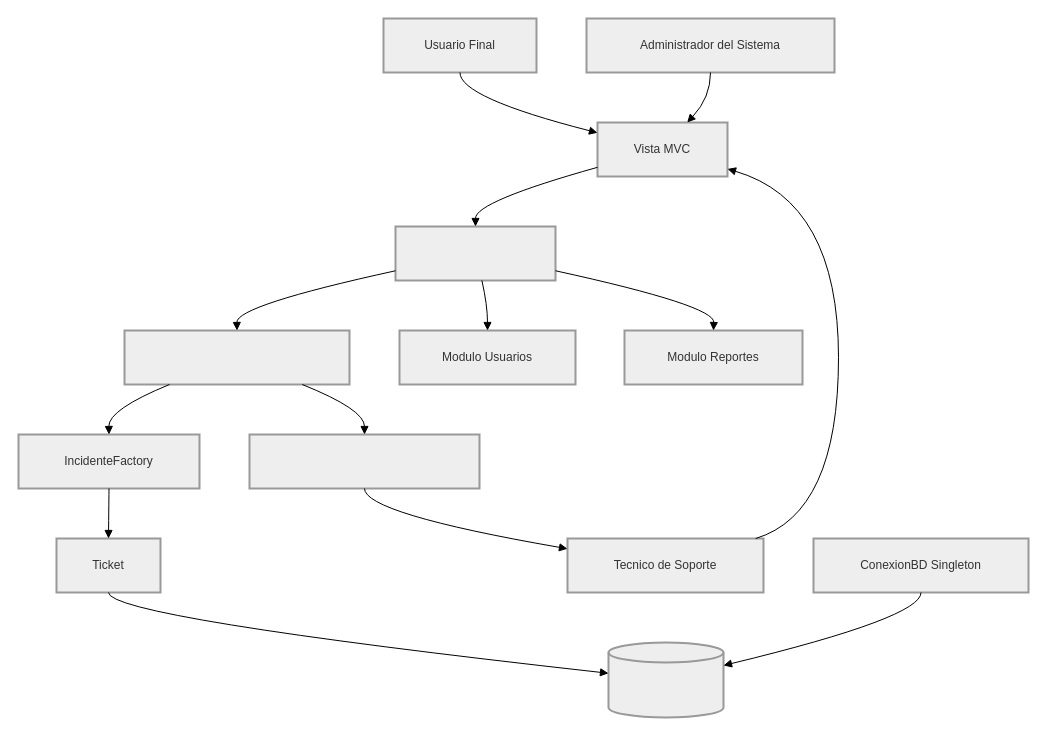
Image size: 1046x735. Some labels were removed from this diagram. The centre of each missing label's shape, as x and y in pixels:
Base de Datos: [665,679]
Controladores: [475,253]
Modulo Gestion Tickets: [236,357]
Notificaciones Observer: [364,461]
